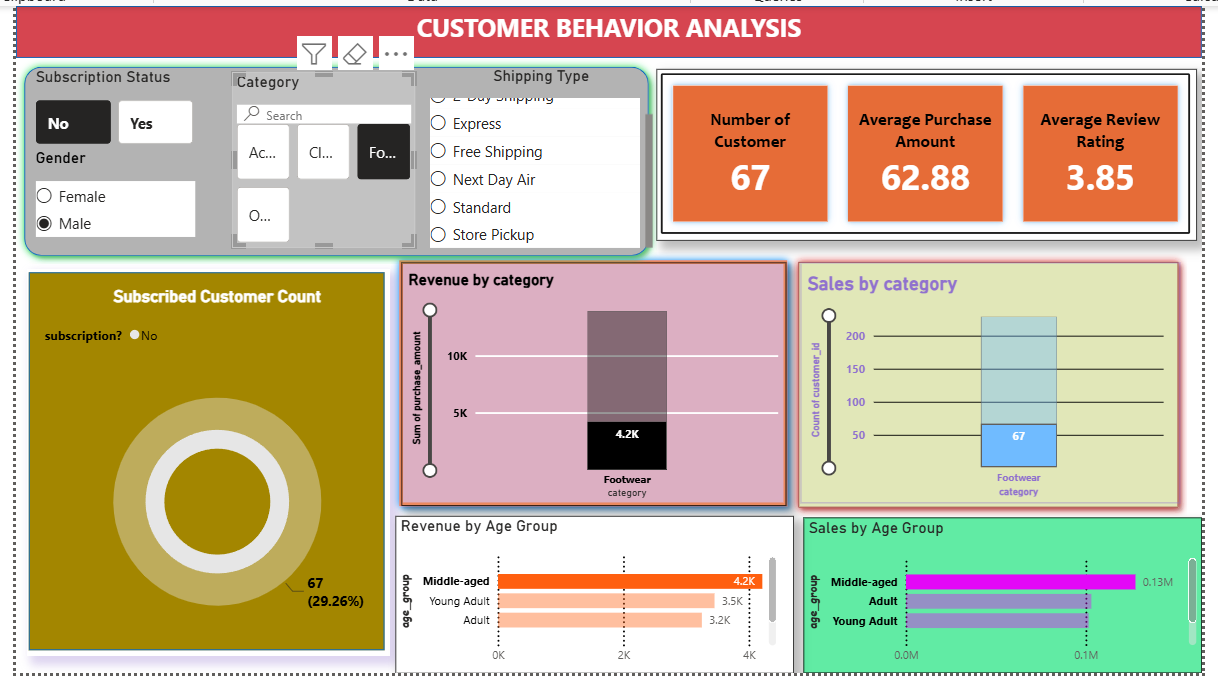

What the dashboard file says about the page in this screenshot:
{"tool":"powerbi","page":{"name":"Page 1","canvas":[1280,720],"ordinal":0},"visuals":[{"type":"cardVisual","fields":{"Data":["public customer.Number of Customer","public customer.Average Purchase Amount","public customer.Average Review Rating"]},"box":[692,68,583.3,185],"z":0},{"type":"textbox","box":[0,0,1280,80],"z":1000},{"type":"shape","box":[0,0,1280,56],"z":2000},{"type":"textbox","box":[0,0,1280,56],"z":3000},{"type":"shape","box":[6,280,398,422],"z":4000},{"type":"donutChart","title":"Subscribed Customer Count","fields":{"Category":["public customer.subscription_status"],"Y":["CountNonNull(public customer.customer_id)"]},"box":[12,284,392,418],"z":5000},{"type":"shape","box":[404,266,436.7,283.3],"z":6000},{"type":"clusteredColumnChart","title":"Revenue by category","fields":{"Y":["Sum(public customer.purchase_amount)"],"Category":["public customer.category"]},"box":[416.2,277.5,415,262.5],"z":7000},{"type":"shape","box":[836.2,267.5,428.3,283.3],"z":8000},{"type":"clusteredColumnChart","title":"Sales by category","fields":{"Y":["CountNonNull(public customer.customer_id)"],"Category":["public customer.category"]},"box":[846.2,277.5,410,260],"z":9000},{"type":"shape","box":[0,56,692,222],"z":10000},{"type":"advancedSlicerVisual","title":"Subscription Status","fields":{"Values":["public customer.subscription_status"]},"box":[15,68.3,166.7,86.7],"z":11000},{"type":"listSlicer","title":"Shipping Type","fields":{"Values":["public customer.shipping_type"]},"box":[442,64,250,202],"z":12000},{"type":"advancedSlicerVisual","title":"Category","fields":{"Values":["public customer.category"]},"box":[226,70,198,190],"z":13000},{"type":"clusteredBarChart","title":"Revenue by Age Group","fields":{"Y":["Sum(public customer.purchase_amount)"],"Category":["public customer.age_group"]},"box":[410,550,430,170],"z":14000},{"type":"listSlicer","title":"Gender","fields":{"Values":["public customer.gender"]},"box":[16,154,182,108],"z":15000},{"type":"clusteredBarChart","title":"Sales by Age Group","fields":{"Y":["Sum(public customer.customer_id)"],"Category":["public customer.age_group"]},"box":[850,552,430,168],"z":16000}]}

Visuals, with their boxes in screenshot pixels (x1, y1, x2, y2):
cardVisual - public customer.Number of Customer x public customer.Average Purchase Amount: BBox(653, 66, 1195, 238)
textbox: BBox(10, 3, 1200, 78)
shape: BBox(10, 3, 1200, 55)
textbox: BBox(10, 3, 1200, 55)
shape: BBox(15, 263, 385, 656)
"Subscribed Customer Count" donutChart: BBox(21, 267, 385, 656)
shape: BBox(385, 250, 791, 514)
"Revenue by category" clusteredColumnChart: BBox(396, 261, 782, 505)
shape: BBox(787, 252, 1185, 515)
"Sales by category" clusteredColumnChart: BBox(796, 261, 1177, 503)
shape: BBox(10, 55, 653, 262)
"Subscription Status" advancedSlicerVisual: BBox(23, 67, 178, 147)
"Shipping Type" listSlicer: BBox(420, 63, 653, 250)
"Category" advancedSlicerVisual: BBox(220, 68, 404, 245)
"Revenue by Age Group" clusteredBarChart: BBox(391, 515, 790, 673)
"Gender" listSlicer: BBox(24, 146, 194, 247)
"Sales by Age Group" clusteredBarChart: BBox(800, 516, 1200, 673)
